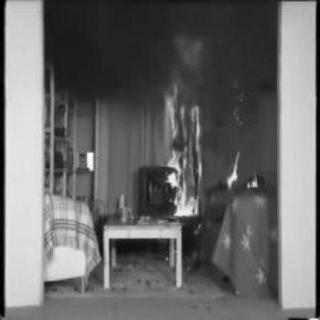Fire: (223, 142, 263, 194)
